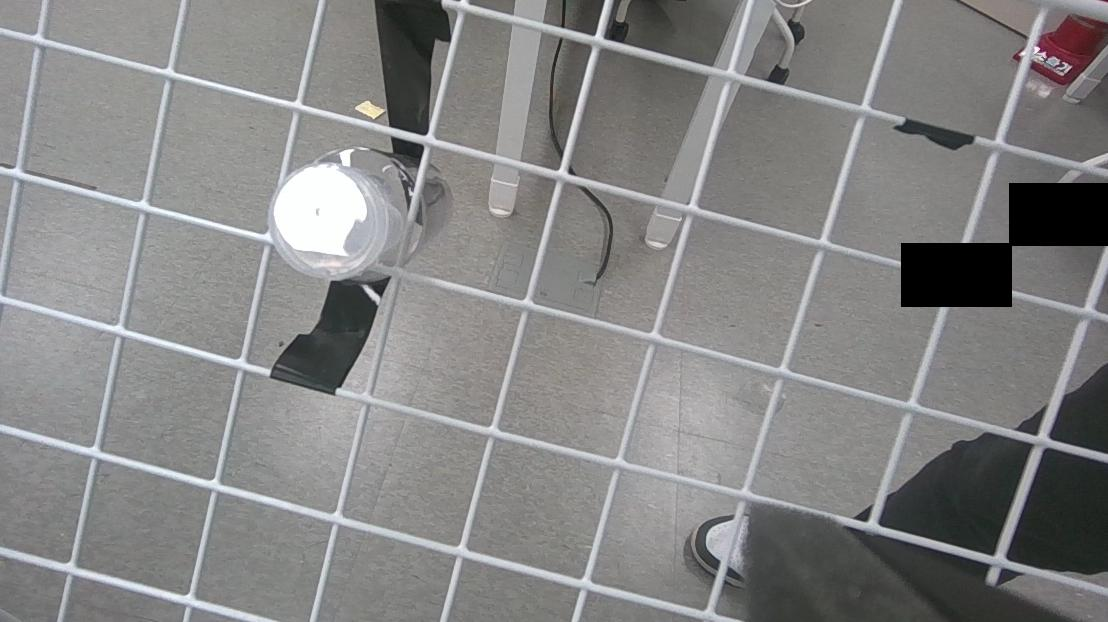Cap: (268, 162, 389, 279)
